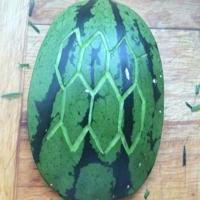biodegradable: (26, 0, 166, 200)
